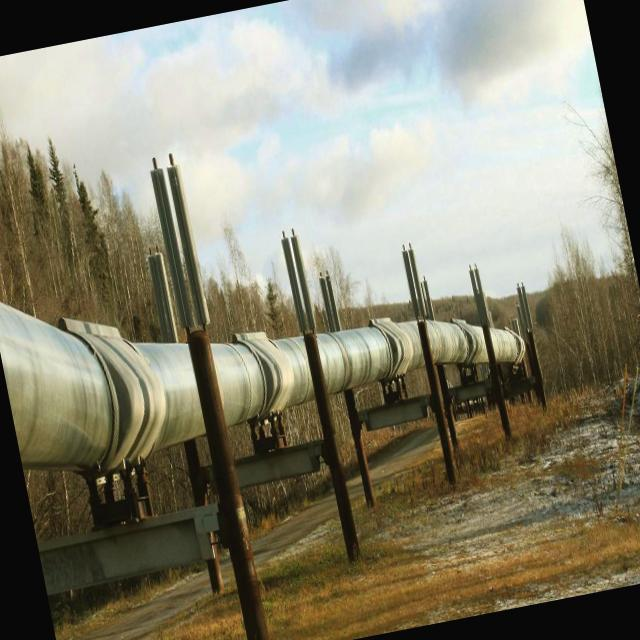gas: (0, 301, 521, 476)
